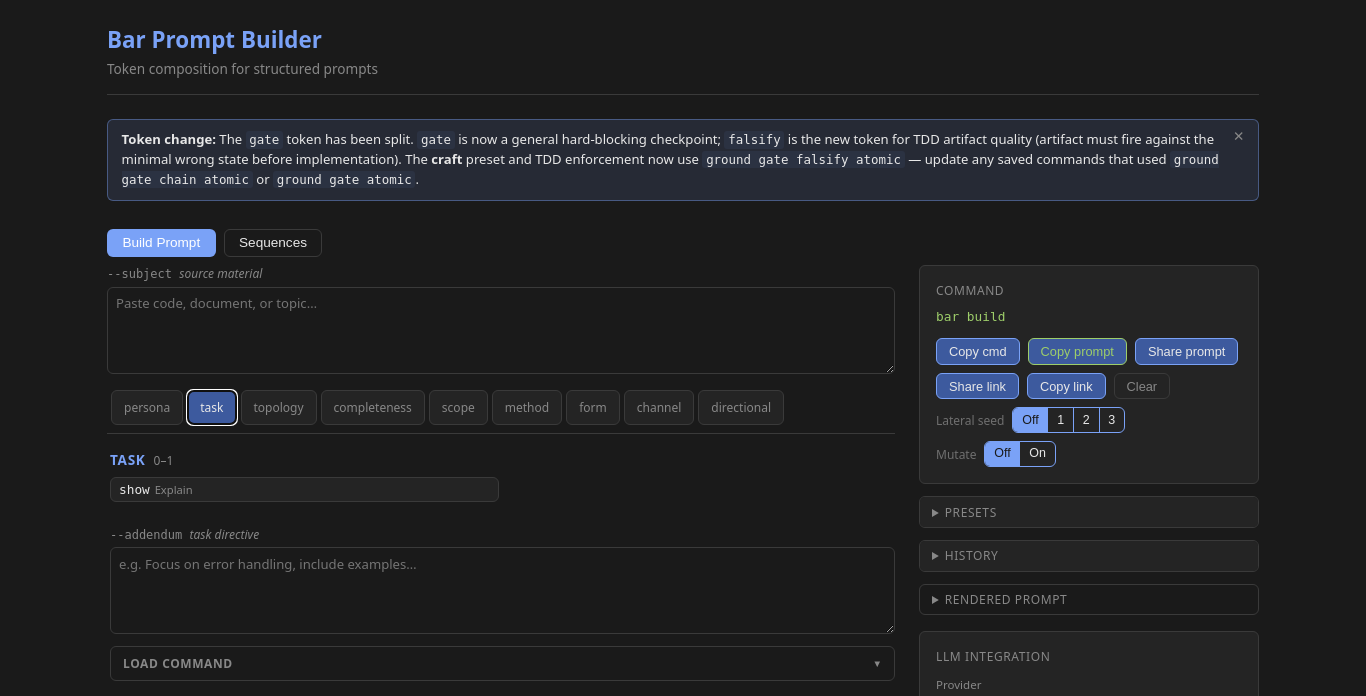
Test: Page — Sequences mode › action step in copied prompt renders as my-turn-to-act block with wait-for-reply
Click the button "Sequences": click(273, 243) [224,229,322,257]
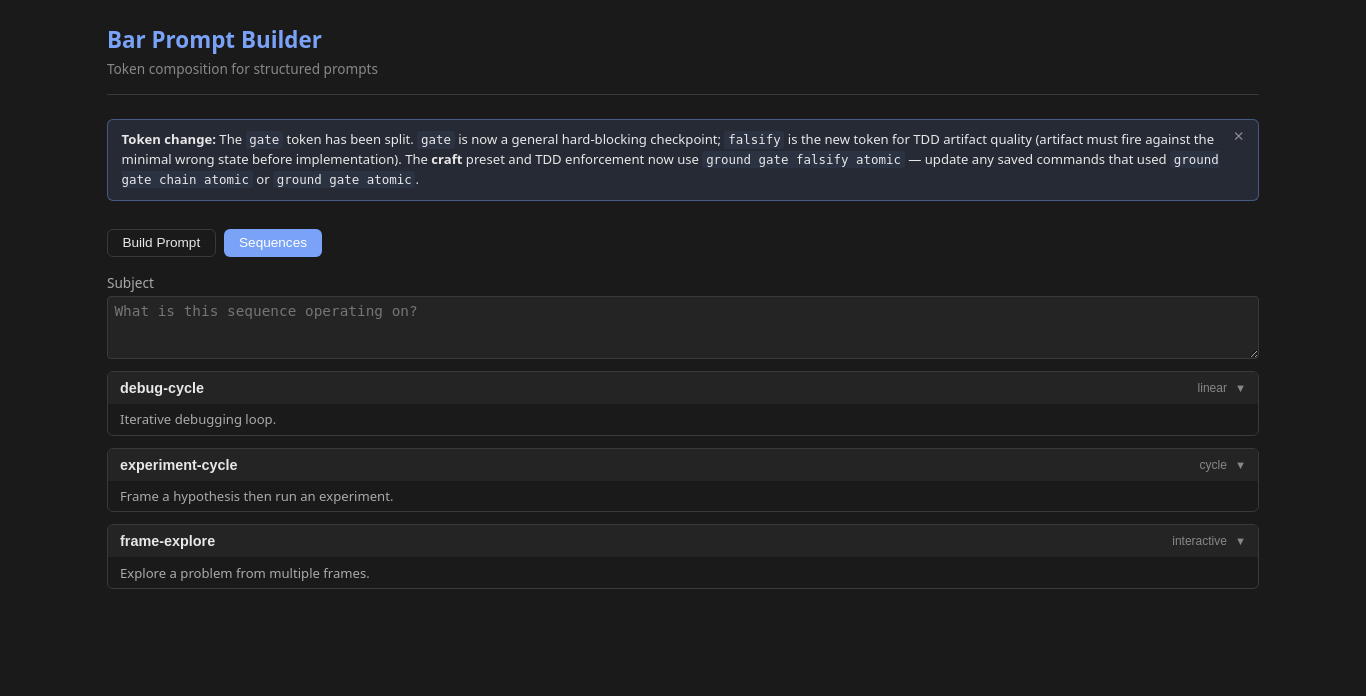
Click the button with class "seq-card-header" showing "experiment-cycle cycle ▼": click(179, 465) [108,449,1258,481]
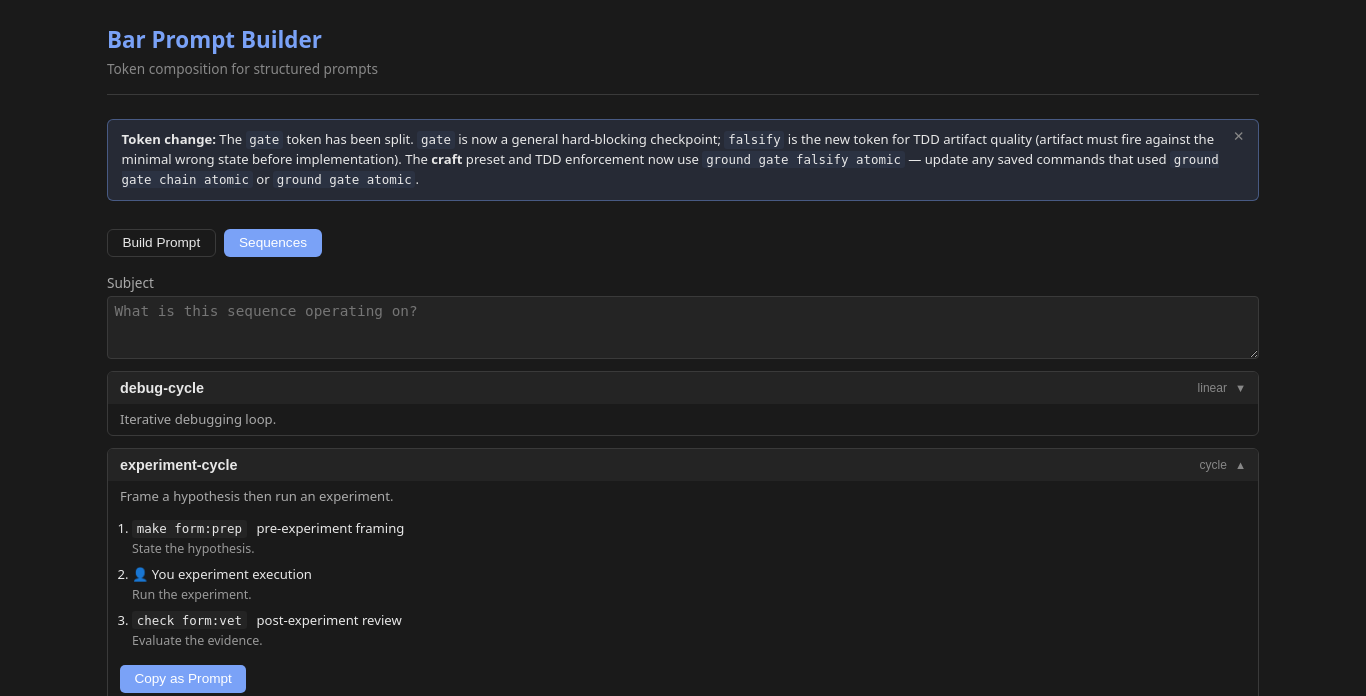
Click the button with class "seq-copy-btn": click(183, 679) [120,665,246,693]
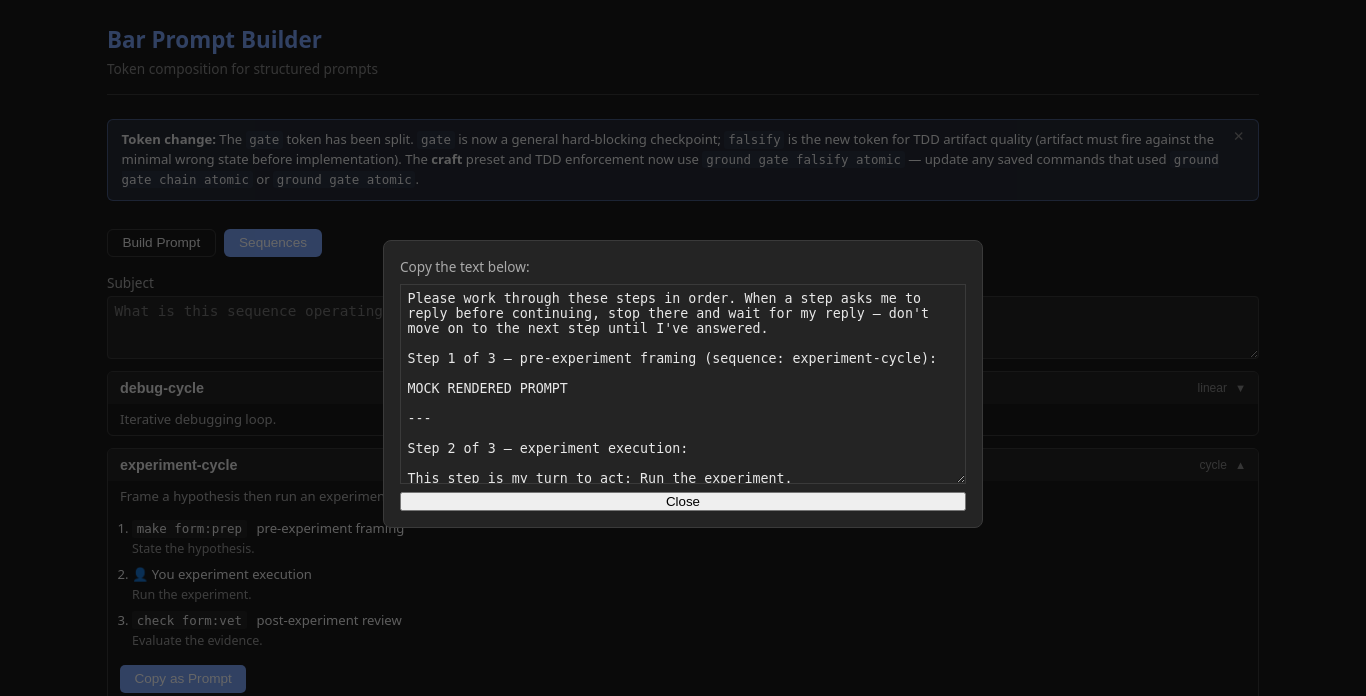
Now the text box with class "seq-modal-textarea" is shown, box [400,284,966,484]
